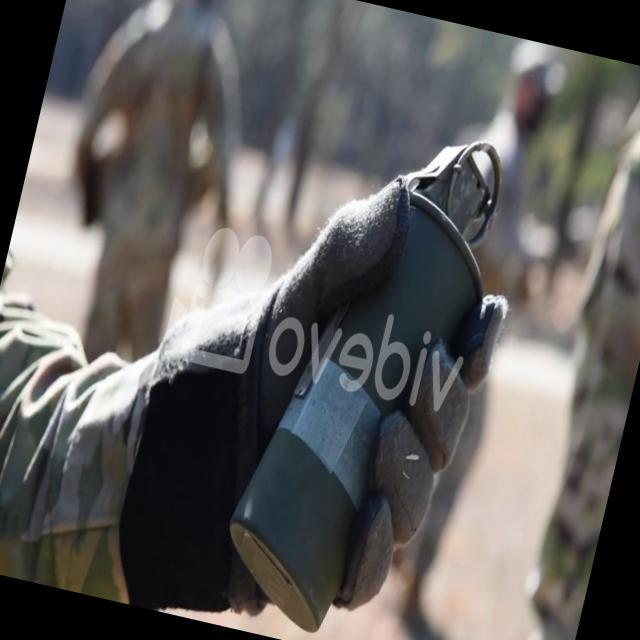grenade: (213, 101, 533, 640)
